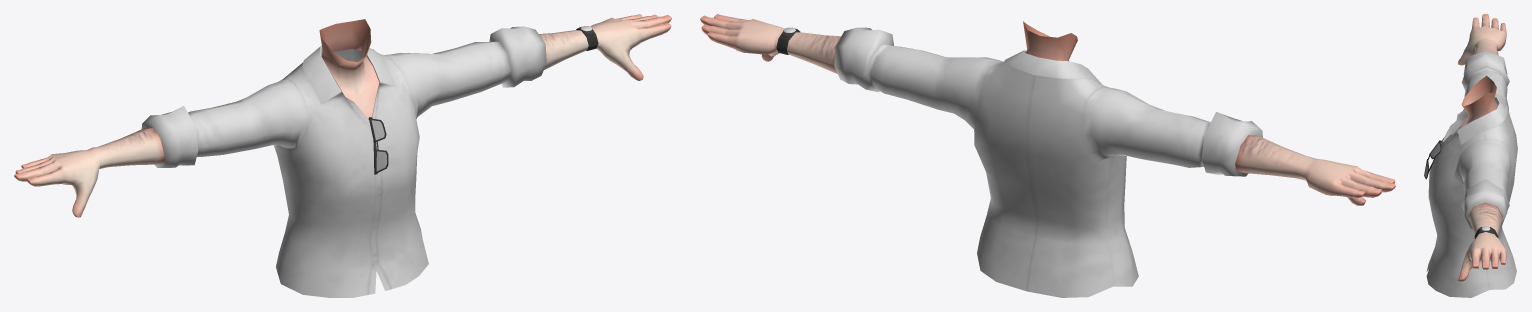
Rendered from tr0860_00_upb00.gltf.
3 renders of one model, left to right at view 1: azimuth 30°, elevation 25°; view 2: azimuth 150°, elevation 25°; view 3: azimuth 270°, elevation 25°, orthographic. The views are drawn at different scales.
Parts seen in each view (by area): view 1: upb00_upperbody_mesh_shape:upperbody00, upb00_upperbodyskin_mesh_shape:upperbody00_skin; view 2: upb00_upperbody_mesh_shape:upperbody00, upb00_upperbodyskin_mesh_shape:upperbody00_skin; view 3: upb00_upperbody_mesh_shape:upperbody00, upb00_upperbodyskin_mesh_shape:upperbody00_skin, upd00_flame00_mesh_shape:upperbody00, upd00_watch_mesh_shape:upperbody00, upd00_glasses00_mesh_shape:upperbody00.
Part boxes in pixels (x1=…): upb00_upperbody_mesh_shape:upperbody00: x1=141, y1=26, x2=546, y2=297; upb00_upperbodyskin_mesh_shape:upperbody00_skin: x1=14, y1=14, x2=671, y2=217; upb00_upperbody_mesh_shape:upperbody00: x1=834, y1=27, x2=1262, y2=297; upb00_upperbodyskin_mesh_shape:upperbody00_skin: x1=700, y1=14, x2=1395, y2=205; upb00_upperbody_mesh_shape:upperbody00: x1=1426, y1=50, x2=1517, y2=297; upb00_upperbodyskin_mesh_shape:upperbody00_skin: x1=1454, y1=14, x2=1506, y2=281; upd00_flame00_mesh_shape:upperbody00: x1=1424, y1=140, x2=1442, y2=179; upd00_watch_mesh_shape:upperbody00: x1=1474, y1=226, x2=1498, y2=238; upd00_glasses00_mesh_shape:upperbody00: x1=1424, y1=143, x2=1440, y2=177.
Size of what is drawn, in the model's own units: 1.63 by 0.5705 by 0.2555.
2 materials, 2 textured.
